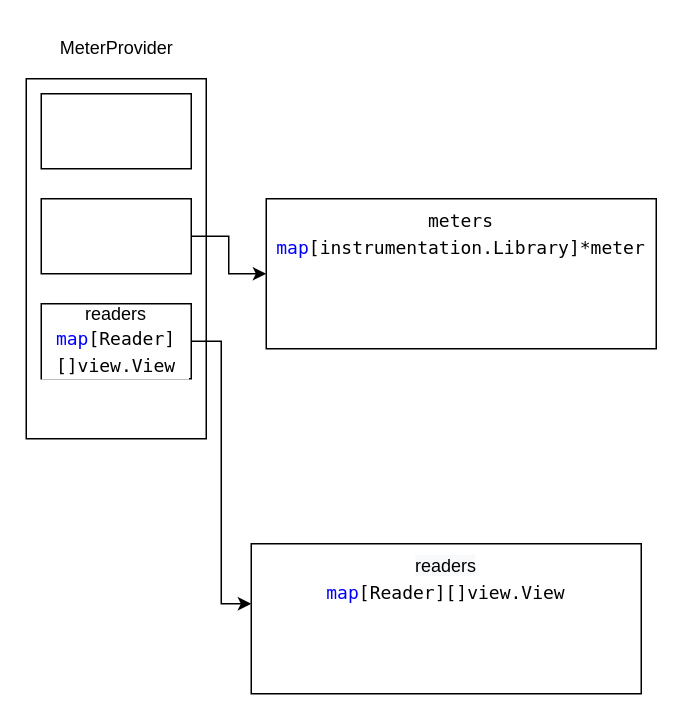
The diagram is 683 pixels wide and 720 high, and some of its shapes have lost their labels. The shapes that lost their labels are listed below. From the top down, each one's box as (x1, y1, x2, y2) in pixels, then its label:
(40, 92, 191, 169): res Resource
(40, 197, 191, 274): meters MeterRegistry
